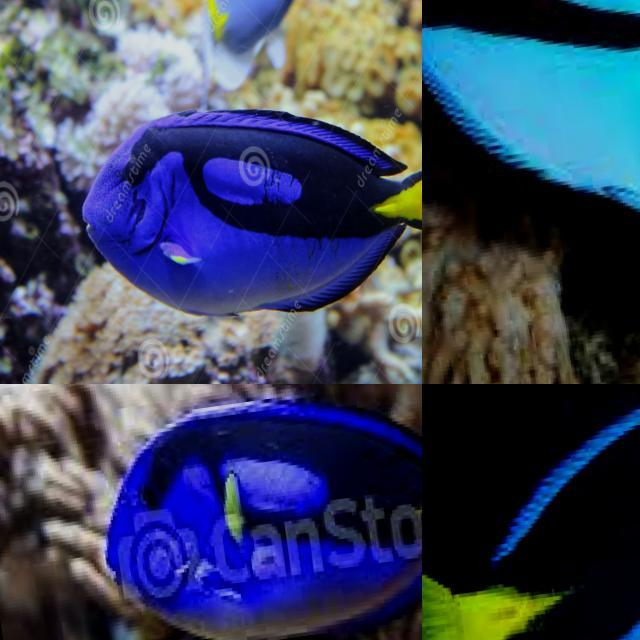BlueTang: (106, 397, 422, 640), (79, 109, 423, 316), (422, 0, 640, 224)
